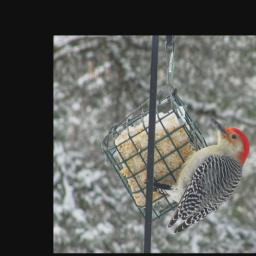Woodpecker: (149, 120, 250, 234)
